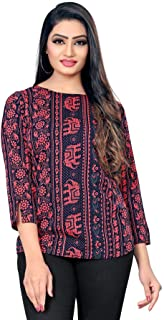tops: (1, 83, 152, 259)
